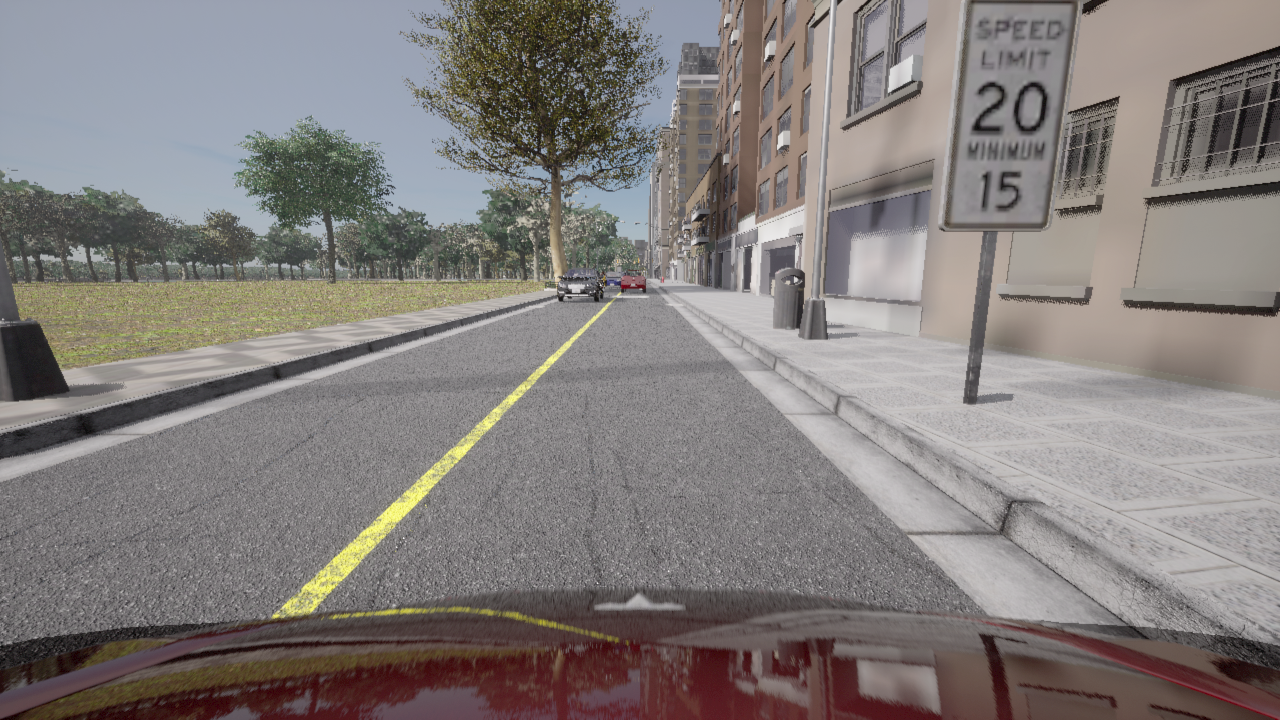cyclist: (0, 588, 1279, 719), (557, 268, 603, 301), (621, 270, 647, 292), (605, 271, 621, 287), (601, 275, 606, 288), (620, 272, 623, 275)
